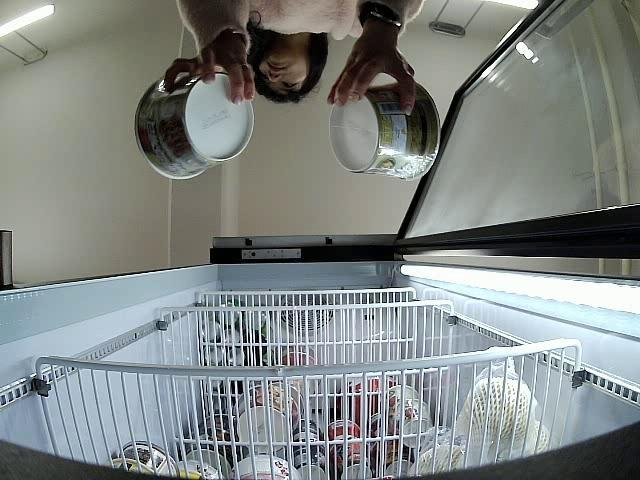03_chapagetti_L: (136, 70, 254, 183), (329, 78, 444, 180)
